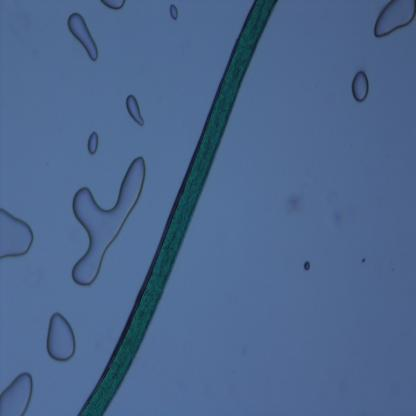Air bubble: (70, 155, 146, 288), (0, 206, 36, 260), (372, 0, 416, 40), (67, 11, 99, 62), (46, 311, 77, 362), (0, 370, 33, 415), (124, 92, 146, 128), (350, 70, 370, 104), (102, 0, 127, 12), (87, 132, 99, 154), (169, 3, 179, 22), (303, 260, 311, 272)
Background material: (288, 196, 305, 220)
Microfibre: (74, 1, 279, 415)
